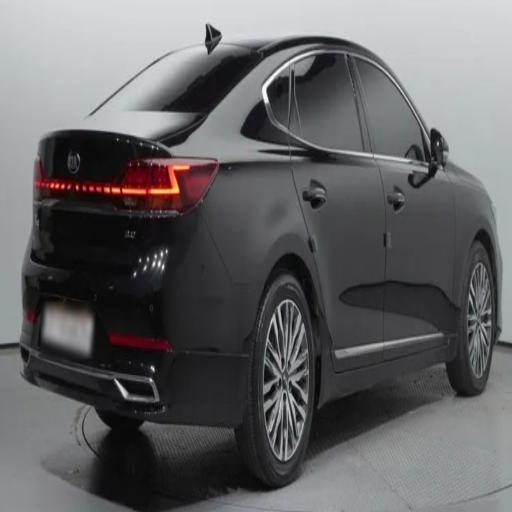normal: (26, 12, 508, 492)
